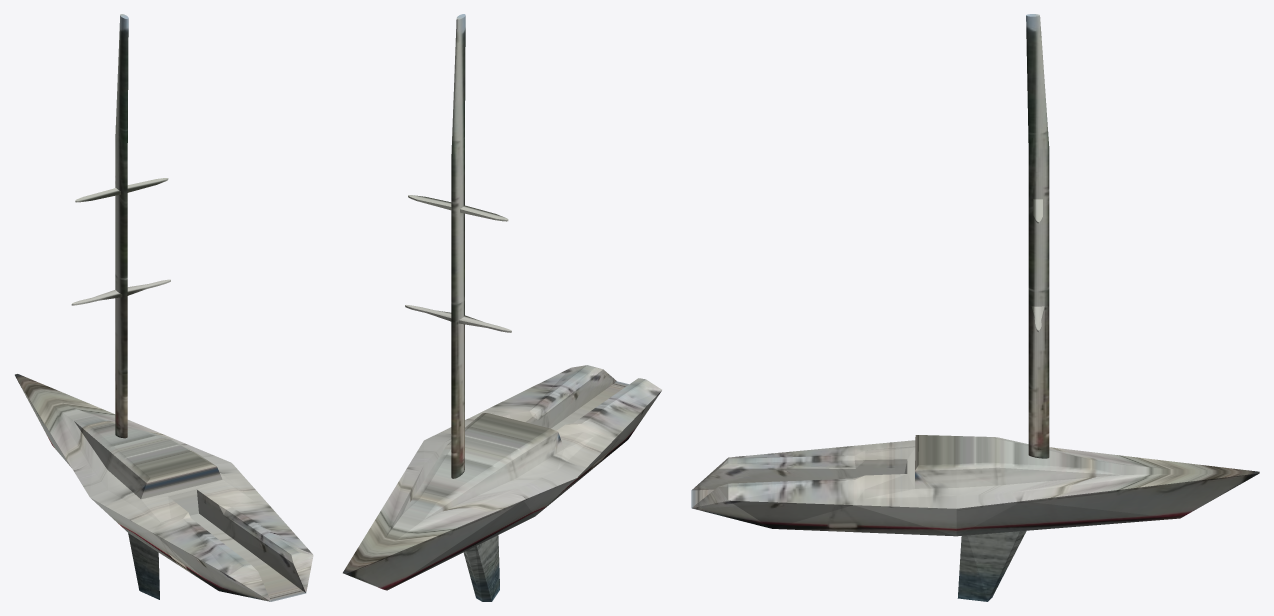
Rendered from boat2_3dex_boat.obj.
3 views of the same model, side by side, from view 1: azimuth 30°, elevation 25°; view 2: azimuth 150°, elevation 25°; view 3: azimuth 270°, elevation 25° (orthographic). The views are drawn at different scales.
Parts seen in each view (by area): view 1: boat_Cylinder.001; view 2: boat_Cylinder.001; view 3: boat_Cylinder.001.
Part boxes in pixels (<box>): boat_Cylinder.001: <box>15,14,313,601</box>; boat_Cylinder.001: <box>343,14,661,601</box>; boat_Cylinder.001: <box>691,14,1259,601</box>.
Size of the model in its own units: 4.68 by 17.57 by 15.52.
